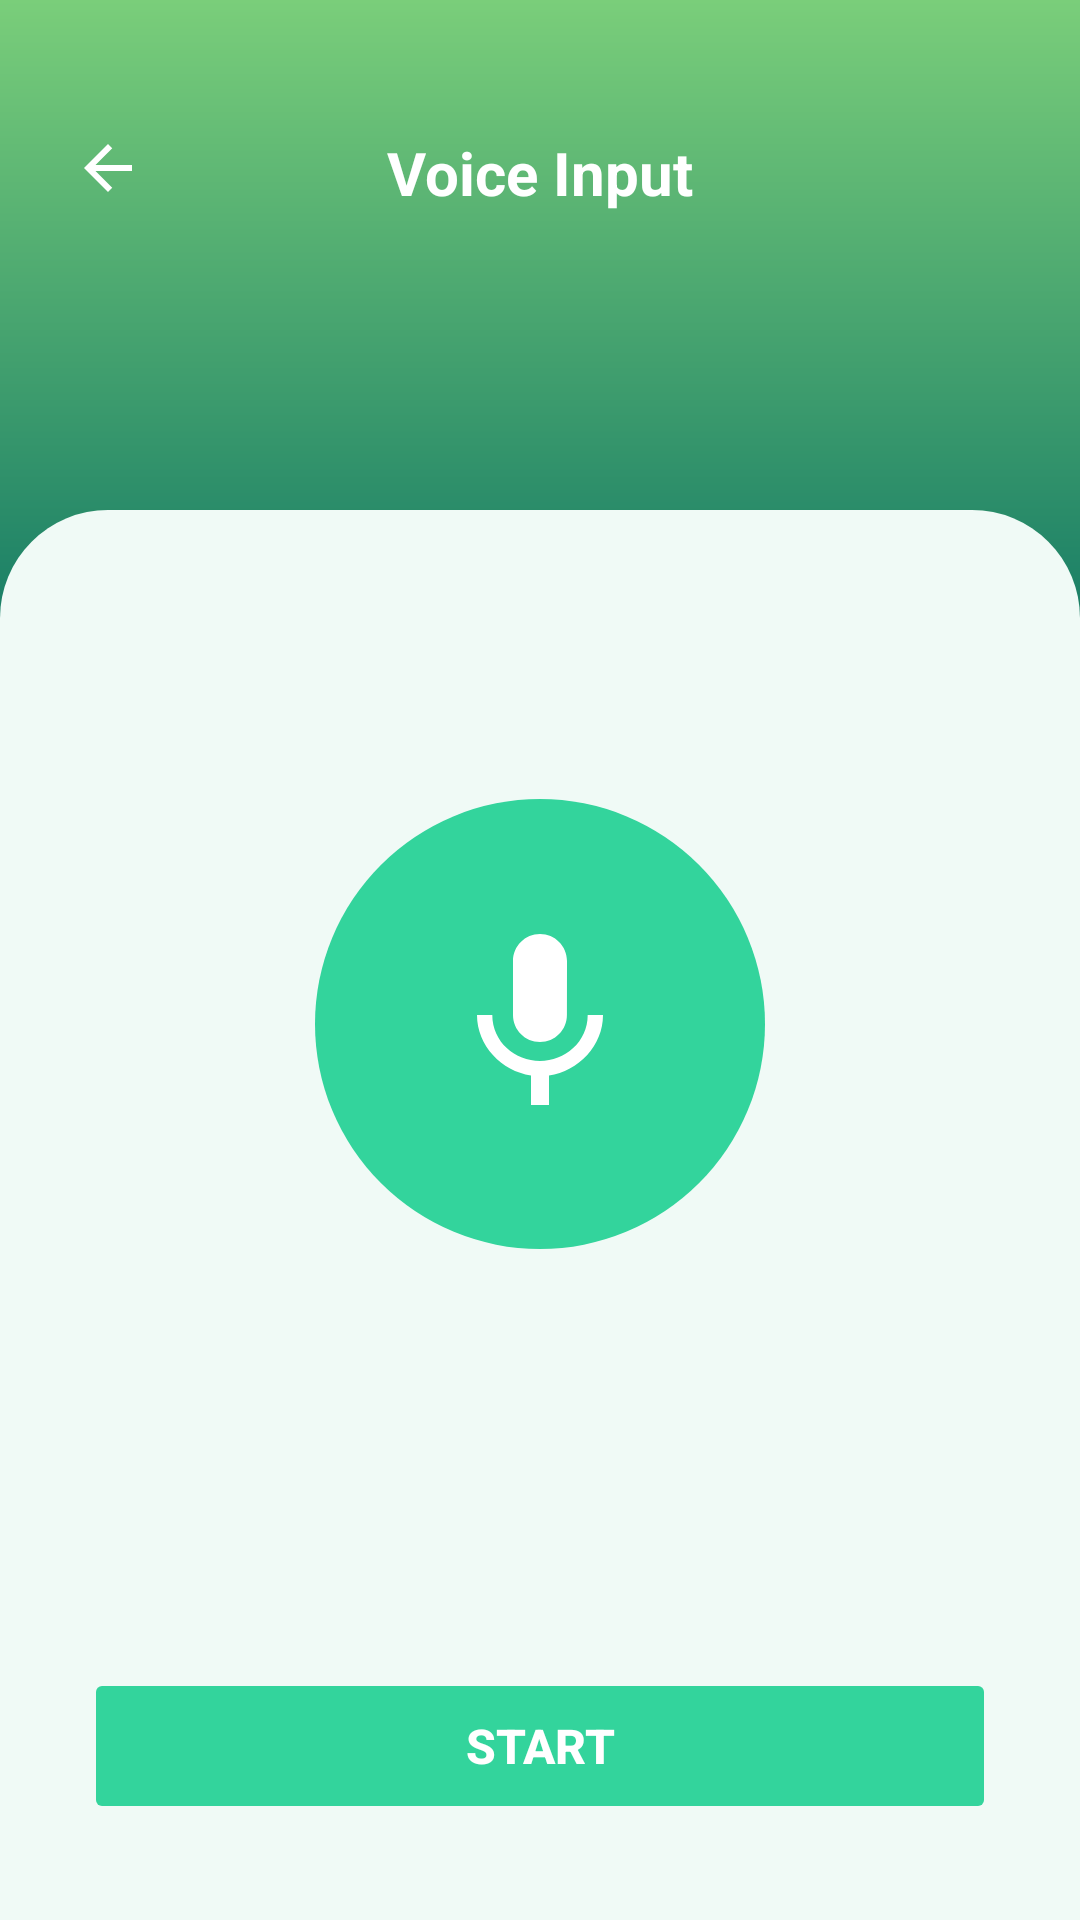

Icon click points for this 1080×1920 phone screenshot, format (x,y):
Microphone: (540,1019)
